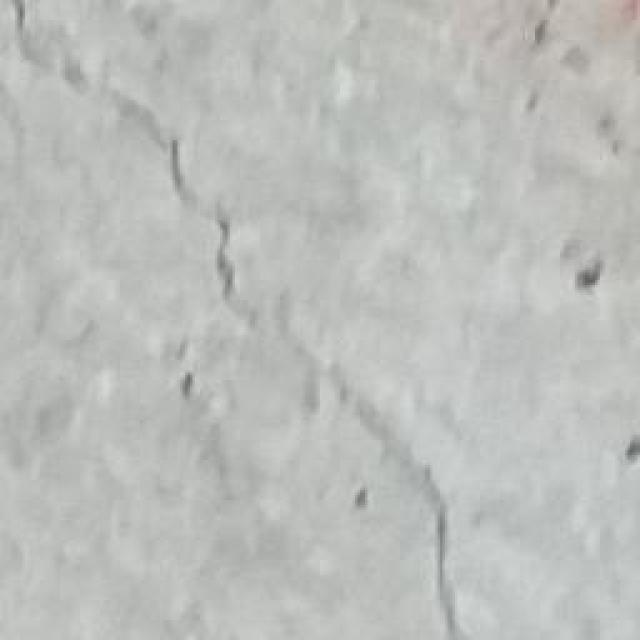Diagonal: (3, 0, 467, 640)
